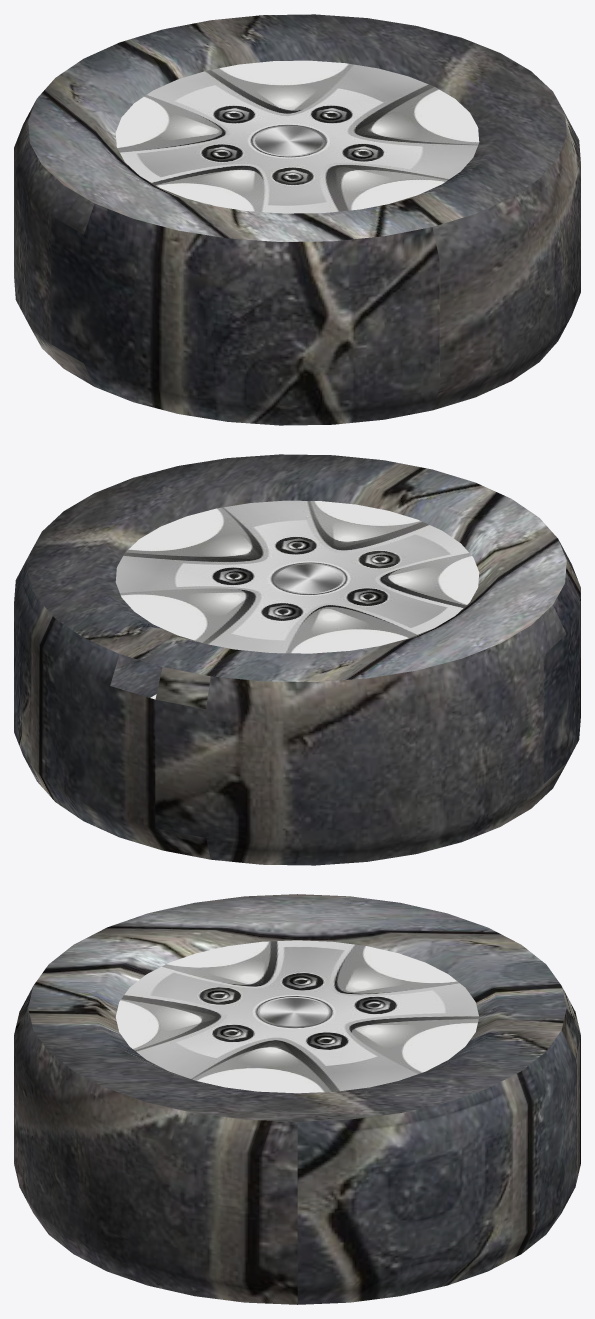
Rendered from Llanta3.fbx.
3 renders of one model, top to bottom at view 1: azimuth 30°, elevation 25°; view 2: azimuth 150°, elevation 25°; view 3: azimuth 270°, elevation 25°, orthographic.
Visible parts, largest first — view 1: Llanta3; view 2: Llanta3; view 3: Llanta3.
Part boxes in pixels (x1,y1,x2,y2): Llanta3: (14,14,580,425); Llanta3: (14,454,580,865); Llanta3: (14,894,580,1304).
Bounding box in the file's own units: 80 × 28.5 × 80.
